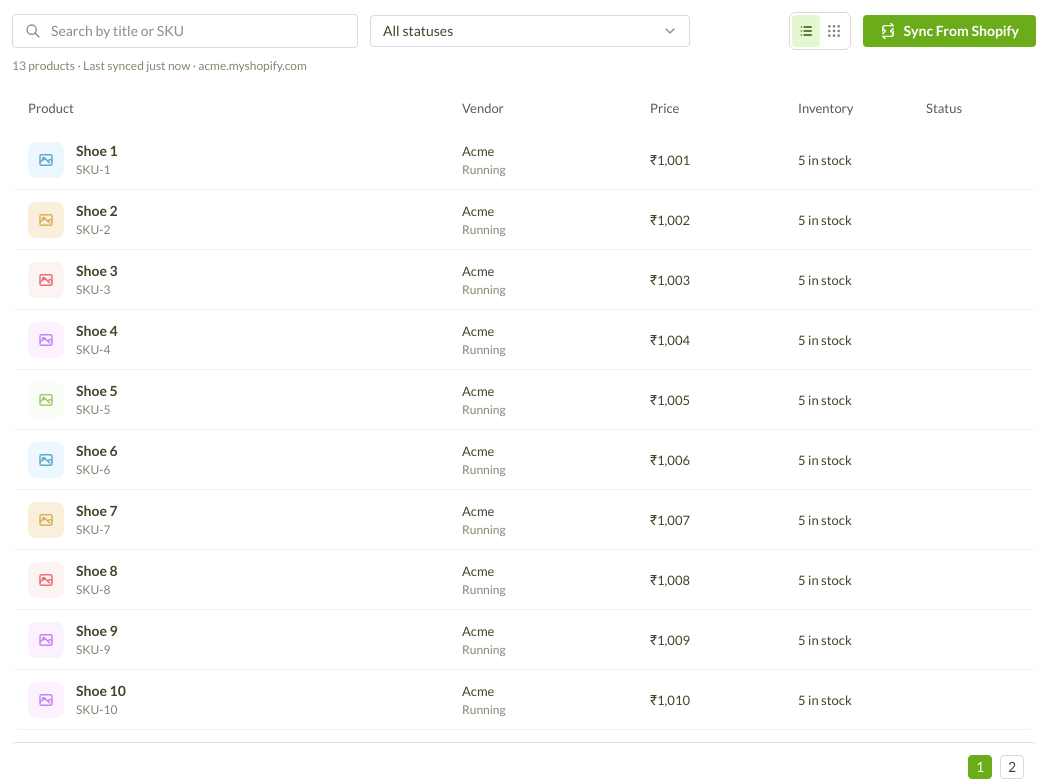
Scenario: CatalogTable › searches by title or SKU and goes back to page 1
Click the button "2" at [1012, 767], box [1000,755,1024,779]
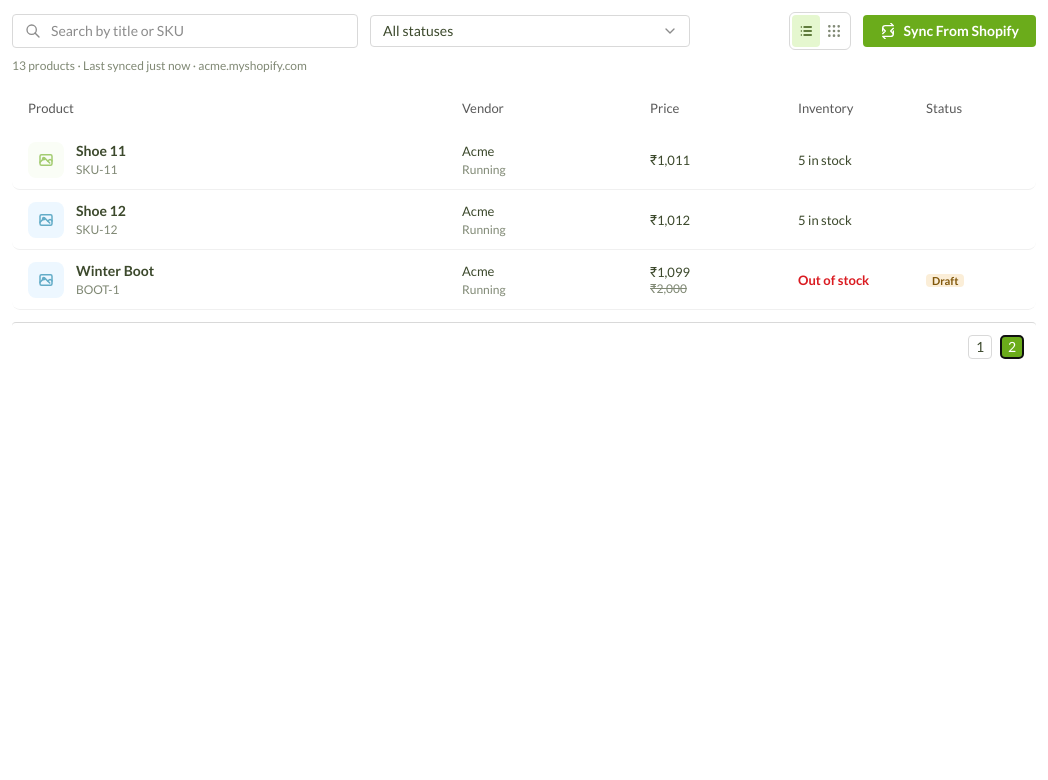
Type "boot-1" into the search field named "Search products" at [197, 31], box [49,20,345,42]
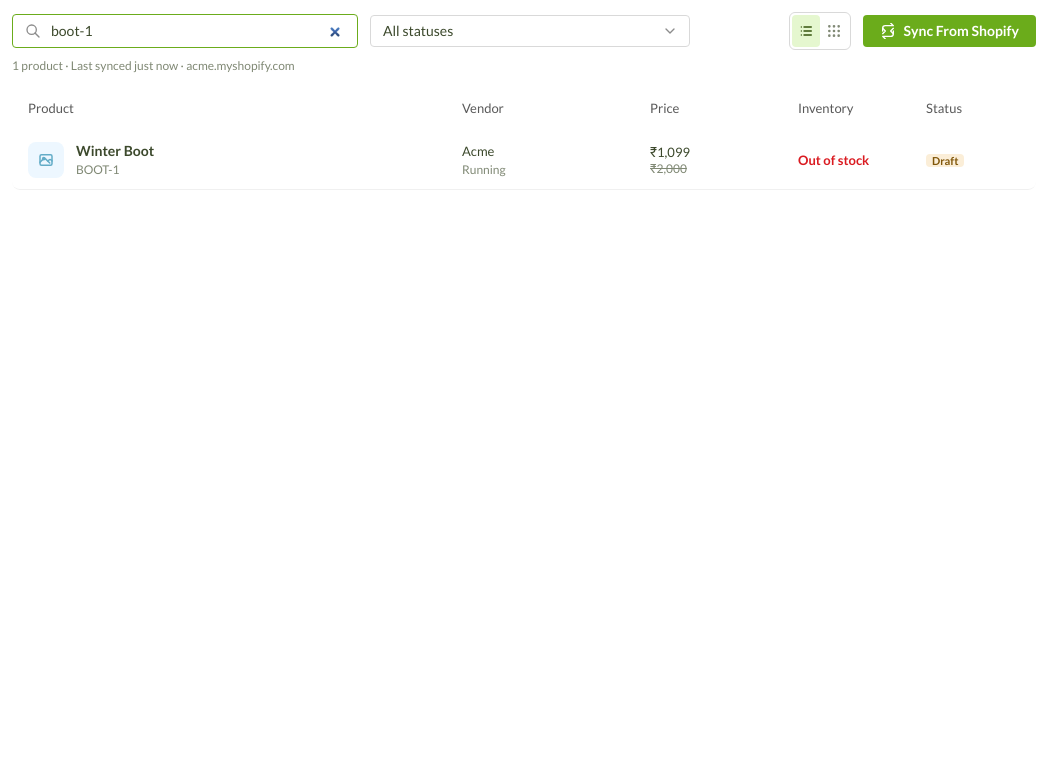
Result: the row that starts with "Winter Boot" is shown at [76,142,154,158]
Replace the text in the search field with "zzz" at [197, 31], box [49,20,345,42]
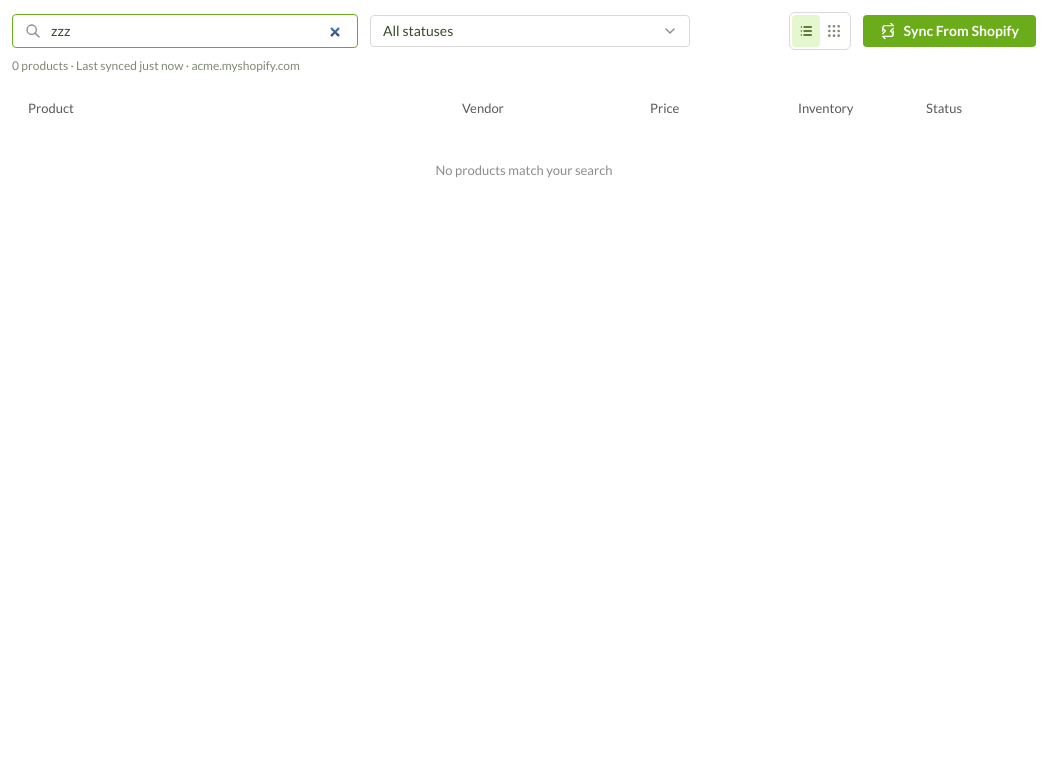
Result: the text "No products match your search" is shown at [436,162,612,178]
